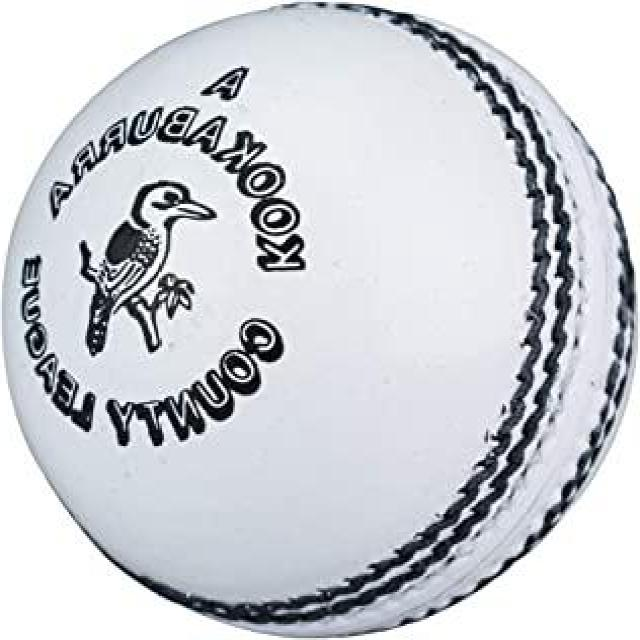ball: (0, 6, 634, 640)
